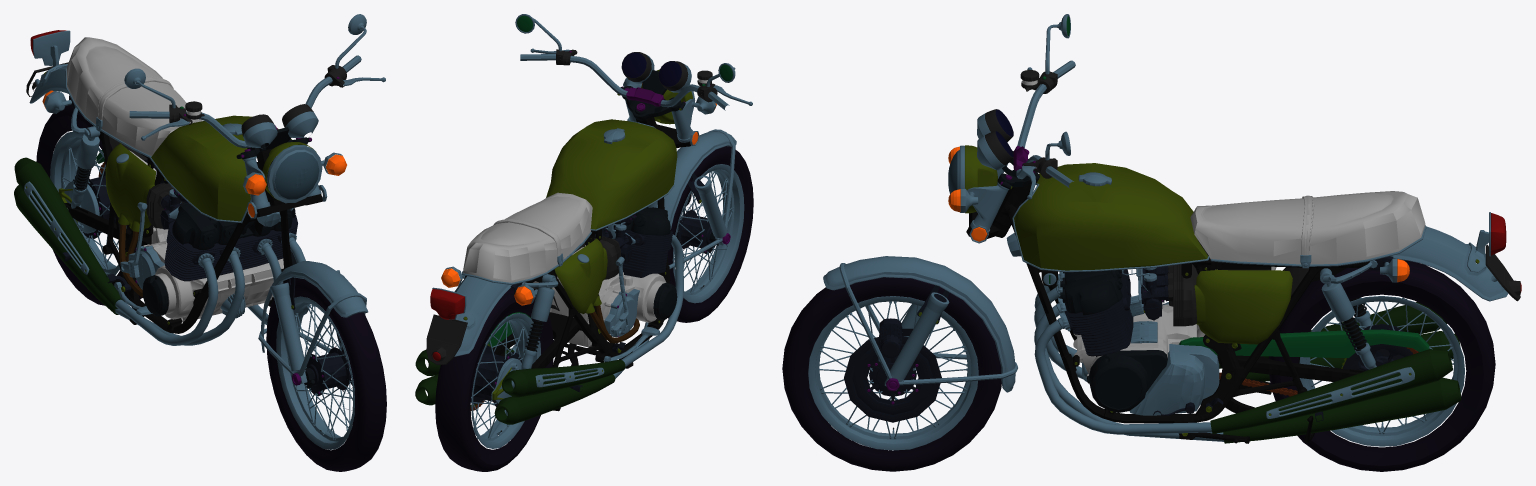
Rendered from BIKE MOTO.glb.
3 views of the same model, side by side, from view 1: azimuth 30°, elevation 25°; view 2: azimuth 150°, elevation 25°; view 3: azimuth 270°, elevation 25° (orthographic). The views are drawn at different scales.
Visible parts, largest first — view 1: Carrozzeria, 0Pneumatici, 00Cerchi, sellaLP, 00CromMed, 00Steel, 00CromeVarie, 00frame, 00Manubrio, 0terminali, 00CrhomeSmall, 0Engine (+7 smaller); view 2: Carrozzeria, 0Pneumatici, sellaLP, 00Cerchi, 0terminali, 00Steel, 00CromMed, 00frame, 00CromeVarie, 00Manubrio, 00_Plastica_nera_Opaca, 00CrhomeSmall (+11 smaller); view 3: 0Pneumatici, Carrozzeria, 00Cerchi, sellaLP, 0terminali, 00frame, 00CromMed, 00Manubrio, 00Steel, 00CromeVarie, 00CrhomeSmall, 00_Plastica_nera_Opaca (+7 smaller).
Boxes of the visible parts, x1=… form: Carrozzeria: x1=105, y1=115, x2=316, y2=231; 0Pneumatici: x1=36, y1=105, x2=386, y2=471; 00Cerchi: x1=50, y1=77, x2=385, y2=449; sellaLP: x1=66, y1=37, x2=202, y2=156; 00CromMed: x1=29, y1=65, x2=368, y2=352; 00Steel: x1=61, y1=95, x2=352, y2=396; 00CromeVarie: x1=24, y1=30, x2=366, y2=434; 00frame: x1=64, y1=111, x2=322, y2=333; 00Manubrio: x1=124, y1=14, x2=366, y2=383; 0terminali: x1=14, y1=157, x2=123, y2=314; 00CrhomeSmall: x1=44, y1=91, x2=352, y2=440; 0Engine: x1=143, y1=226, x2=283, y2=322; Carrozzeria: x1=546, y1=69, x2=692, y2=313; 0Pneumatici: x1=435, y1=146, x2=753, y2=471; sellaLP: x1=463, y1=192, x2=592, y2=282; 00Cerchi: x1=471, y1=48, x2=752, y2=448; 0terminali: x1=415, y1=344, x2=625, y2=424; 00Steel: x1=465, y1=173, x2=715, y2=409; 00CromMed: x1=454, y1=55, x2=736, y2=356; 00frame: x1=492, y1=117, x2=690, y2=411; 00CromeVarie: x1=432, y1=129, x2=735, y2=434; 00Manubrio: x1=515, y1=14, x2=735, y2=337; 00_Plastica_nera_Opaca: x1=426, y1=49, x2=717, y2=431; 00CrhomeSmall: x1=445, y1=78, x2=733, y2=439; 0Pneumatici: x1=782, y1=260, x2=1495, y2=471; Carrozzeria: x1=965, y1=145, x2=1292, y2=344; 00Cerchi: x1=808, y1=67, x2=1464, y2=450; sellaLP: x1=1190, y1=191, x2=1425, y2=264; 0terminali: x1=1210, y1=302, x2=1461, y2=443; 00frame: x1=966, y1=184, x2=1370, y2=443; 00CromMed: x1=823, y1=113, x2=1508, y2=392; 00Manubrio: x1=884, y1=14, x2=1219, y2=415; 00Steel: x1=869, y1=256, x2=1412, y2=421; 00CromeVarie: x1=839, y1=212, x2=1490, y2=434; 00CrhomeSmall: x1=819, y1=183, x2=1454, y2=438; 00_Plastica_nera_Opaca: x1=893, y1=70, x2=1520, y2=429.
Size of the model in its own units: 0.8976 by 1.28 by 2.17.
